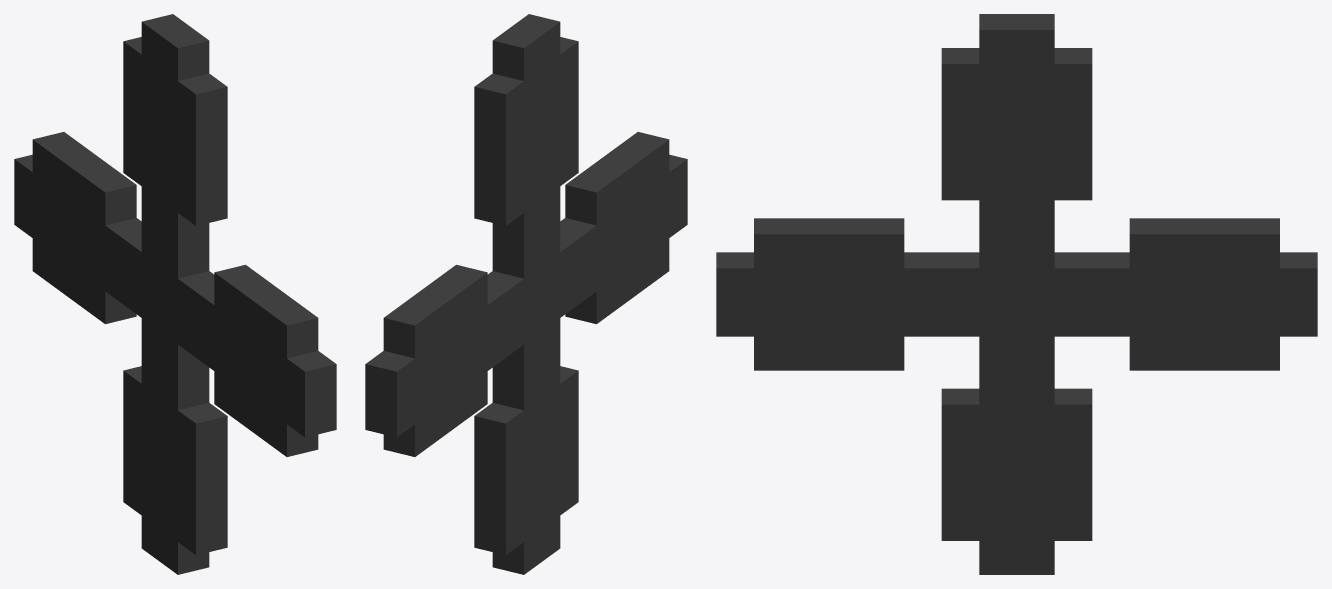
File: Fan0Blade.obj
3 views of the same model, side by side, from view 1: azimuth 30°, elevation 25°; view 2: azimuth 150°, elevation 25°; view 3: azimuth 270°, elevation 25° (orthographic). The views are drawn at different scales.
Size of the model in its own units: 0.1 by 1.6 by 1.6.
1 material, 1 textured.
